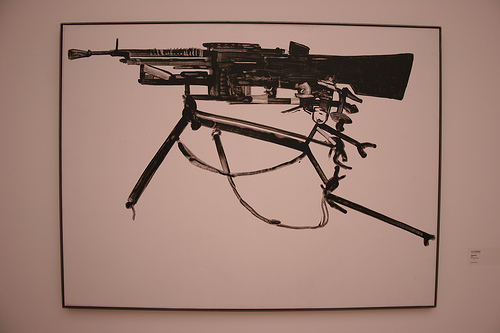rifle: (71, 37, 431, 265)
